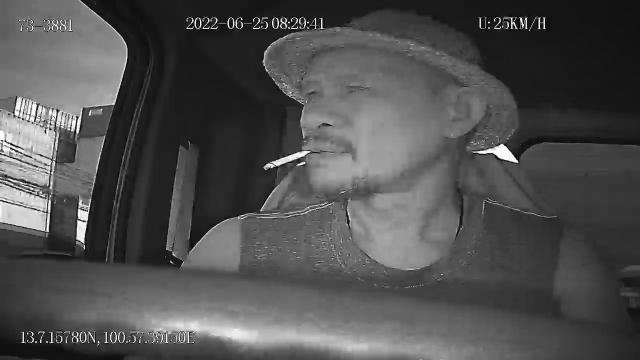SafeDriving: (337, 76, 378, 98)
Smoking: (264, 148, 312, 168)
